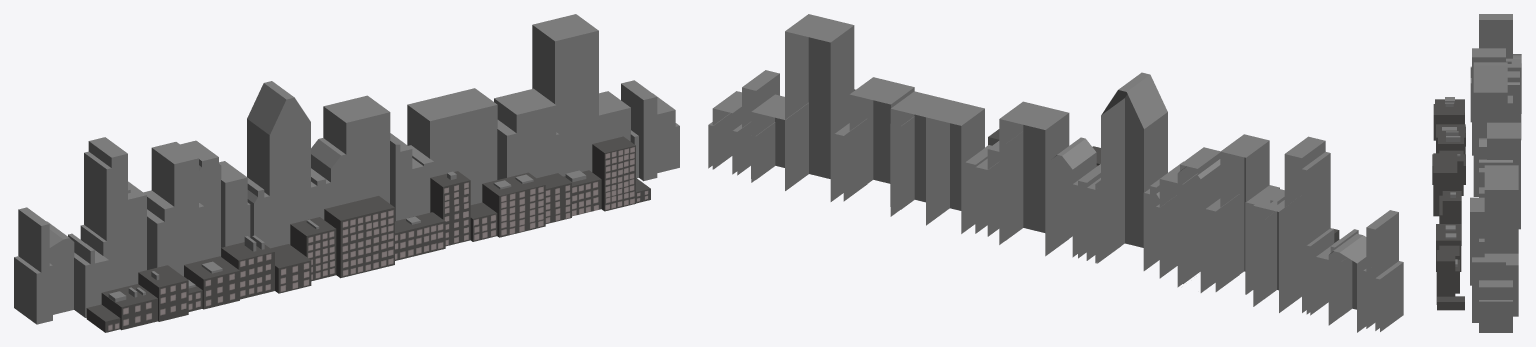
The model's file is Background Cena01.fbx.
3 renders of one model, left to right at view 1: azimuth 30°, elevation 25°; view 2: azimuth 150°, elevation 25°; view 3: azimuth 270°, elevation 25°, orthographic. The views are drawn at different scales.
Visible parts, largest first — view 1: pCube26, pCube21, pCube38, polySurface9, pCube15, pCube25, pCube24, pCube23, polySurface13, pCube10, polySurface15, polySurface10 (+33 smaller); view 2: pCube26, pCube21, pCube38, pCube24, pCube15, pCube11, pCube18, pCube23, pCube17, pCube25, pCube27, pCube2 (+22 smaller); view 3: pCube26, pCube21, pCube38, pCube10, polySurface9, pCube35, pCube28, polySurface15, pCube25, polySurface3, pCube15, pCube27 (+23 smaller).
Part boxes in pixels (x1,y1,x2,y2): pCube26: [532, 14, 598, 176]; pCube21: [247, 81, 310, 248]; pCube38: [323, 95, 390, 203]; polySurface9: [324, 196, 394, 278]; pCube15: [151, 142, 198, 276]; pCube25: [494, 88, 556, 178]; pCube24: [441, 88, 497, 204]; pCube23: [407, 96, 463, 176]; polySurface13: [482, 172, 545, 237]; pCube10: [88, 137, 127, 289]; polySurface15: [592, 136, 635, 211]; polySurface10: [430, 171, 470, 246]; pCube26: [785, 14, 854, 201]; pCube21: [1101, 72, 1167, 270]; pCube38: [999, 101, 1069, 256]; pCube24: [890, 91, 949, 225]; pCube15: [1220, 134, 1269, 294]; pCube11: [1253, 188, 1301, 312]; pCube18: [1159, 161, 1200, 283]; pCube23: [926, 100, 984, 233]; pCube17: [1177, 147, 1220, 292]; pCube25: [849, 77, 914, 183]; pCube27: [751, 94, 808, 190]; pCube2: [1366, 210, 1398, 330]; pCube26: [1484, 174, 1518, 253]; pCube21: [1473, 62, 1507, 196]; pCube38: [1487, 122, 1520, 229]; pCube10: [1479, 14, 1512, 58]; polySurface9: [1433, 153, 1457, 216]; pCube35: [1479, 300, 1512, 332]; pCube28: [1472, 257, 1505, 322]; polySurface15: [1436, 250, 1455, 304]; pCube25: [1470, 197, 1484, 285]; polySurface3: [1433, 104, 1464, 140]; pCube15: [1472, 48, 1505, 155]; pCube27: [1484, 253, 1518, 316].
Size of the model in its own units: 95.26 by 23.74 by 15.36.
